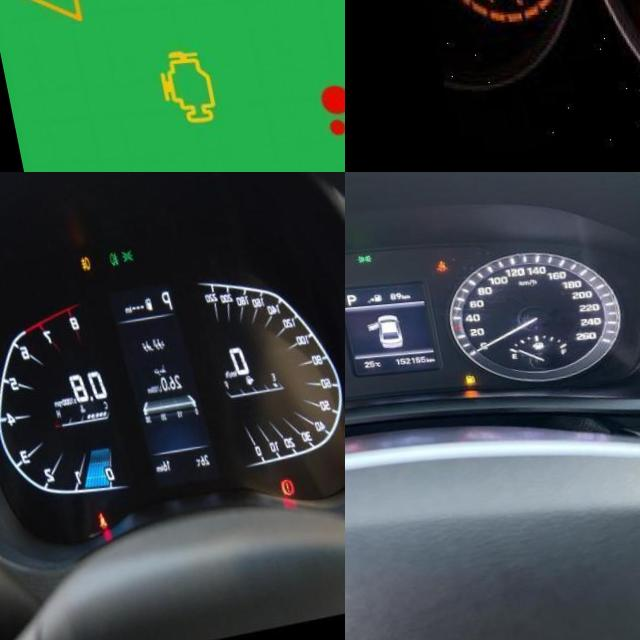Seat Belt: (76, 518, 87, 534), (429, 267, 441, 281)
